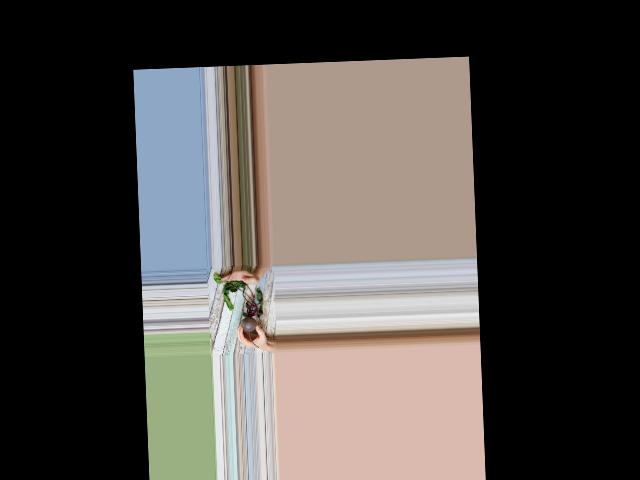beet: (213, 271, 264, 349)
